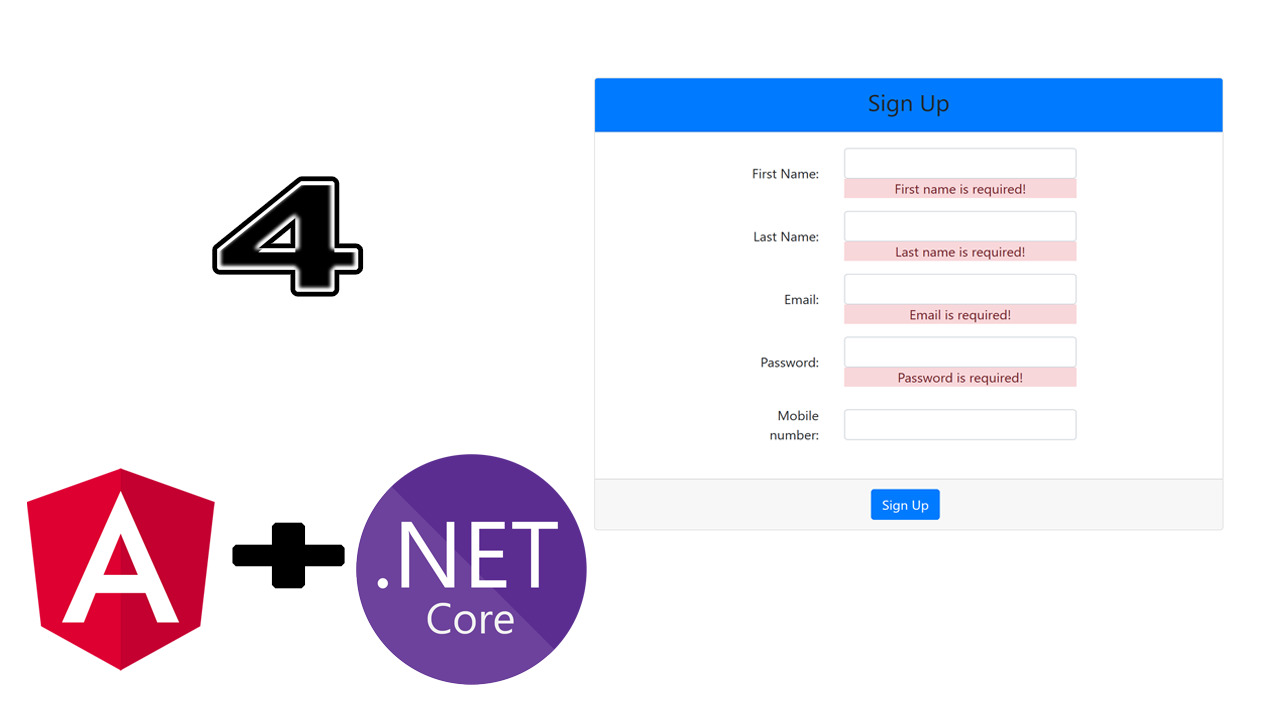error_message: (891, 178, 1026, 197), (893, 244, 1024, 261), (895, 370, 1024, 387), (905, 306, 1011, 323)
